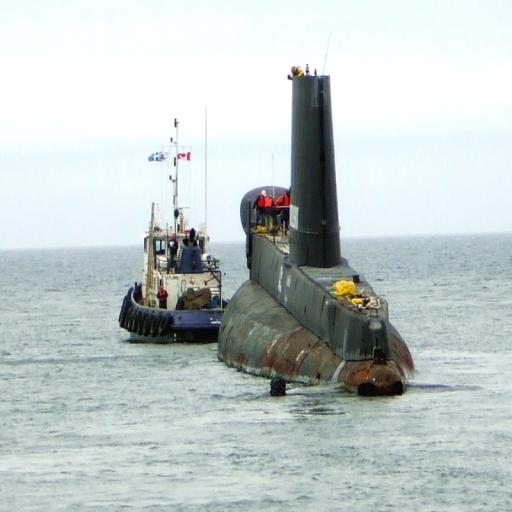submarine: (216, 63, 412, 400)
